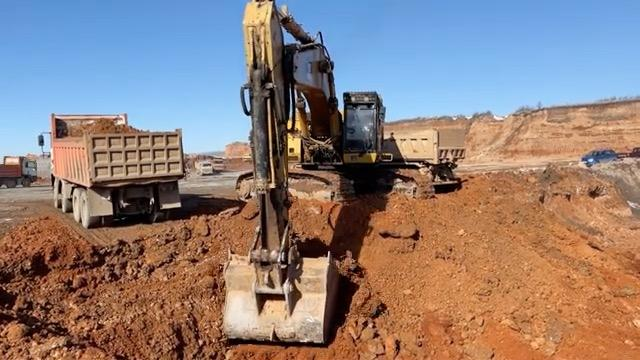excavator: (214, 3, 386, 289)
